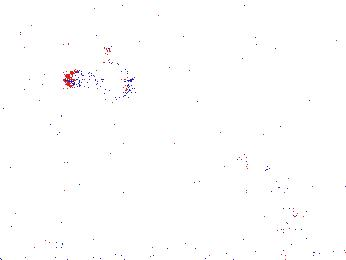flame jellyfish: (272, 172, 346, 232), (64, 59, 143, 105), (235, 153, 291, 204)
